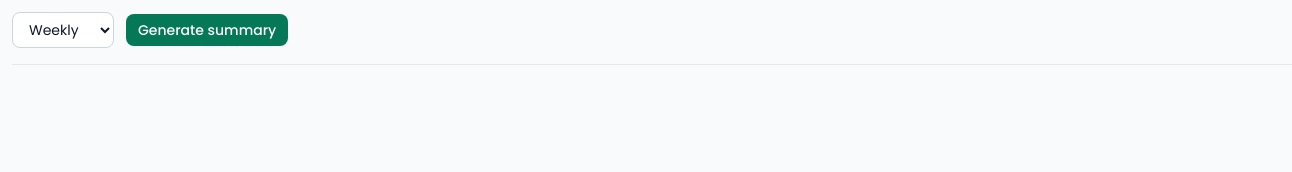
Test: SummaryGenerator › shows a "queued" confirmation on success, not a completed summary -- generation is async
The width and height of the screenshot is (1292, 172).
Click the button "Generate summary" at coordinates (207, 30), box [126,14,288,46]
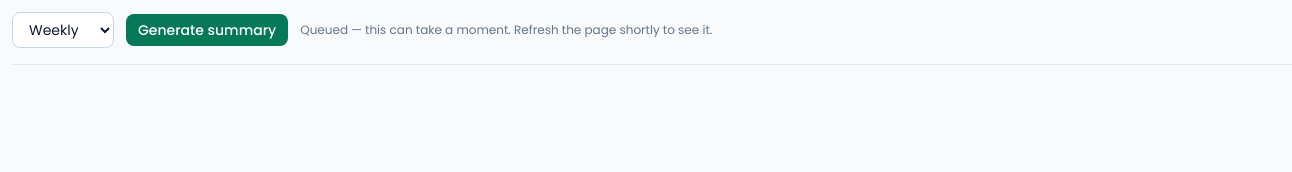
Now the text "Queued" is shown, box [300,21,712,38]
